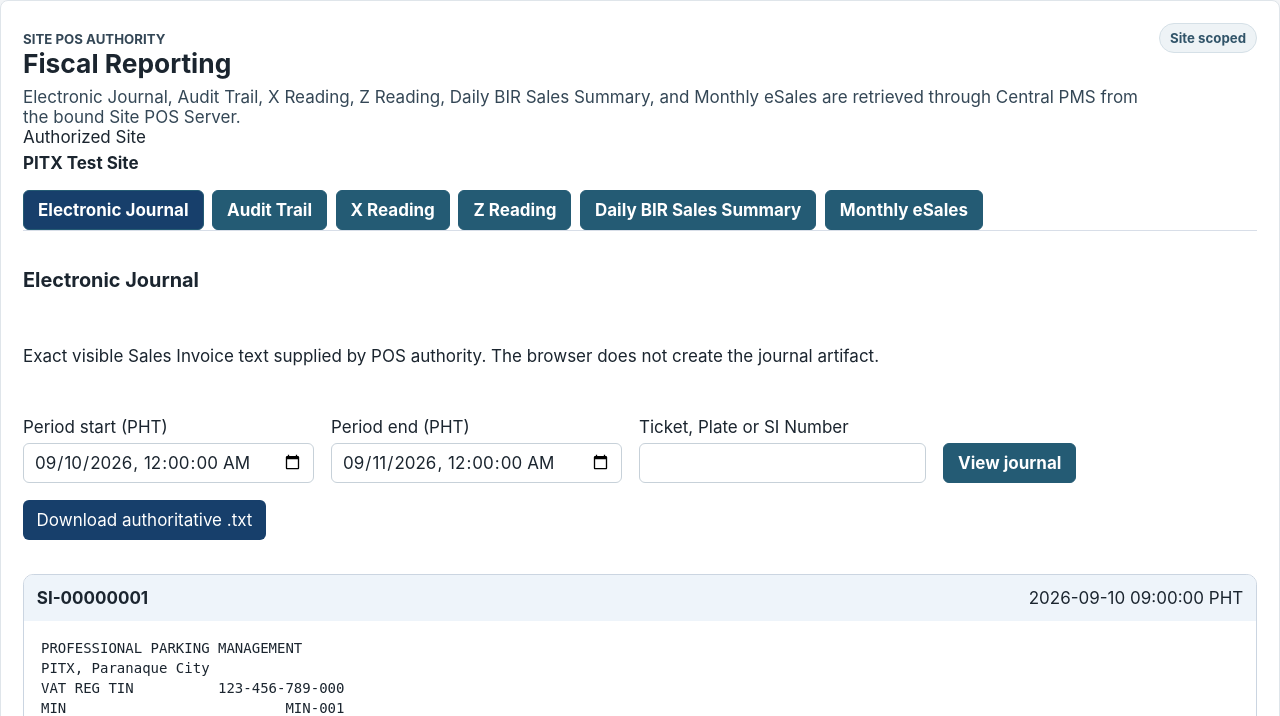
Test case: Operator Console fiscal reporting › requires explicit confirmation before closing one POS-returned Fiscal Business Date
Step 1. Click the tab "Z Reading" → (515, 210), box [458, 190, 572, 230]
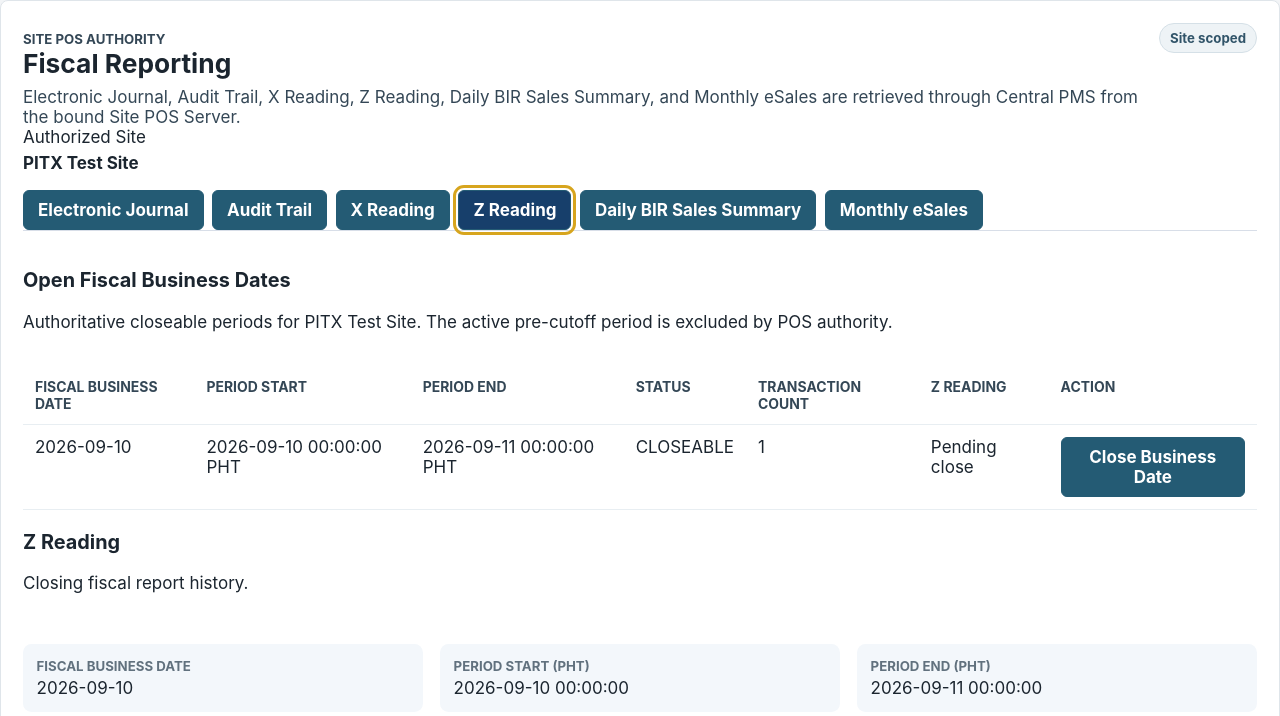
Step 2. Click the button "Close Business Date" → (1153, 467), box [1061, 437, 1245, 497]
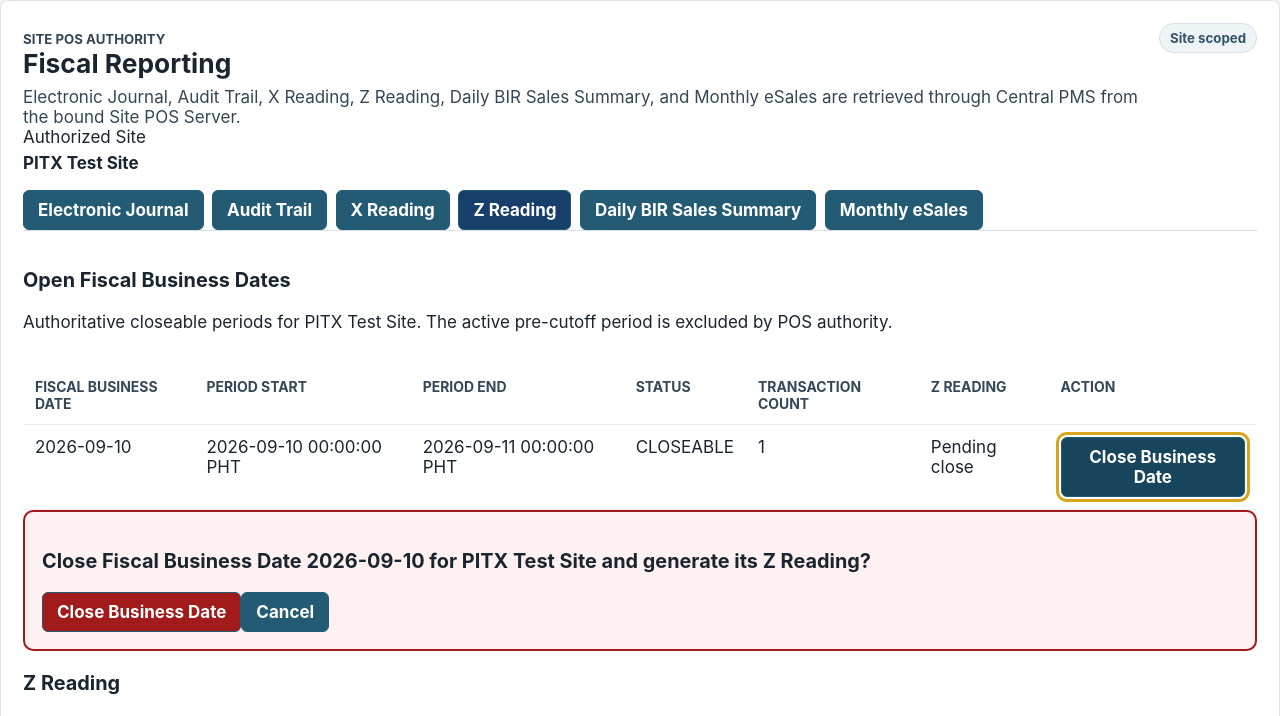
Check: the dialog named "Confirm Fiscal Business Date close" shows "PITX Test Site", box [42, 549, 871, 573]
Check: the dialog named "Confirm Fiscal Business Date close" shows "2026-09-10", box [42, 549, 871, 573]
Step 3. Click the button "Cancel" → (285, 612), box [241, 592, 329, 632]
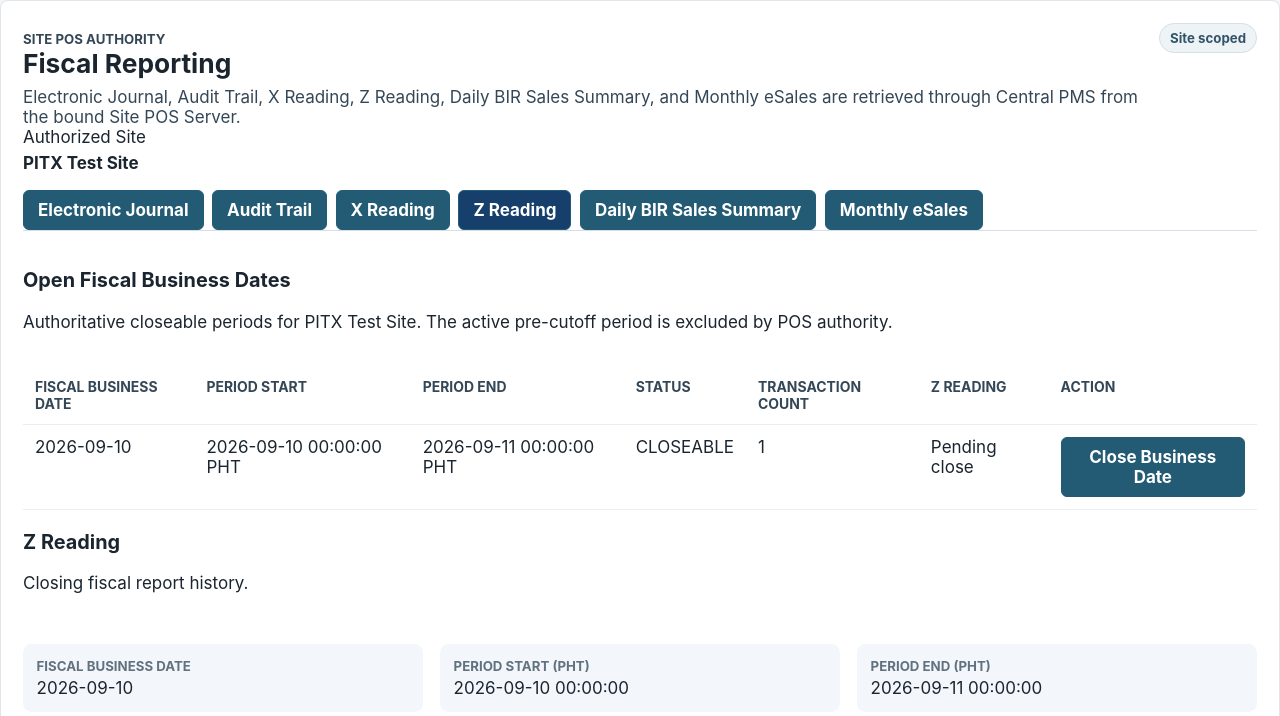
Step 4. Click the button "Close Business Date" → (1153, 467), box [1061, 437, 1245, 497]
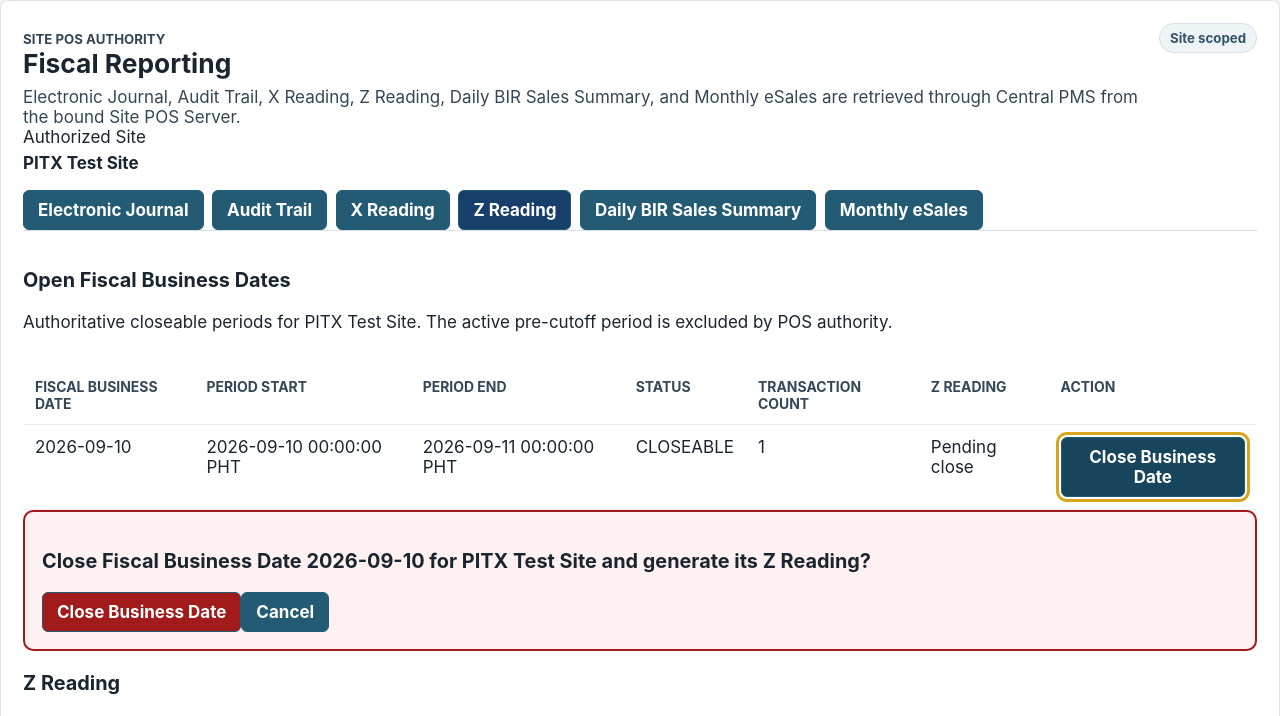
Step 5. Click the button with class "dangerButton" → (142, 612), box [42, 592, 241, 632]
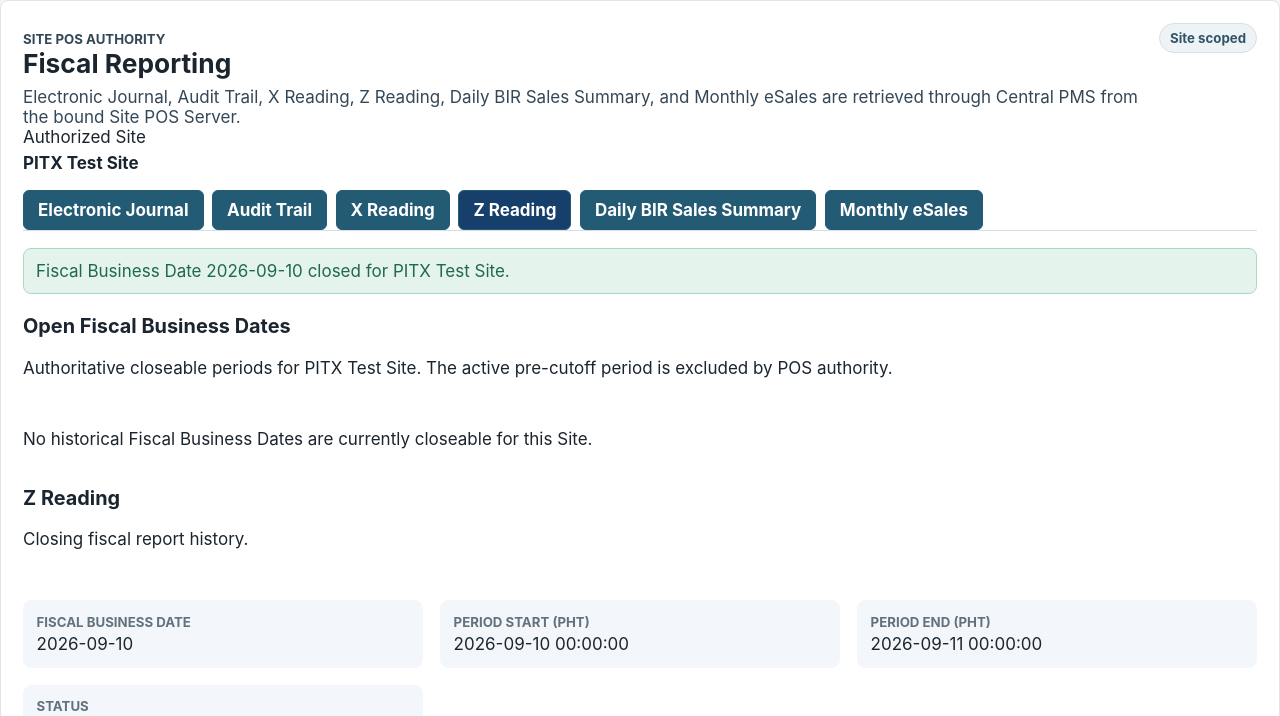
Check: the text "Fiscal Business Date 2026-09-10 closed for PITX Test Site." is shown, box [23, 248, 1257, 294]
